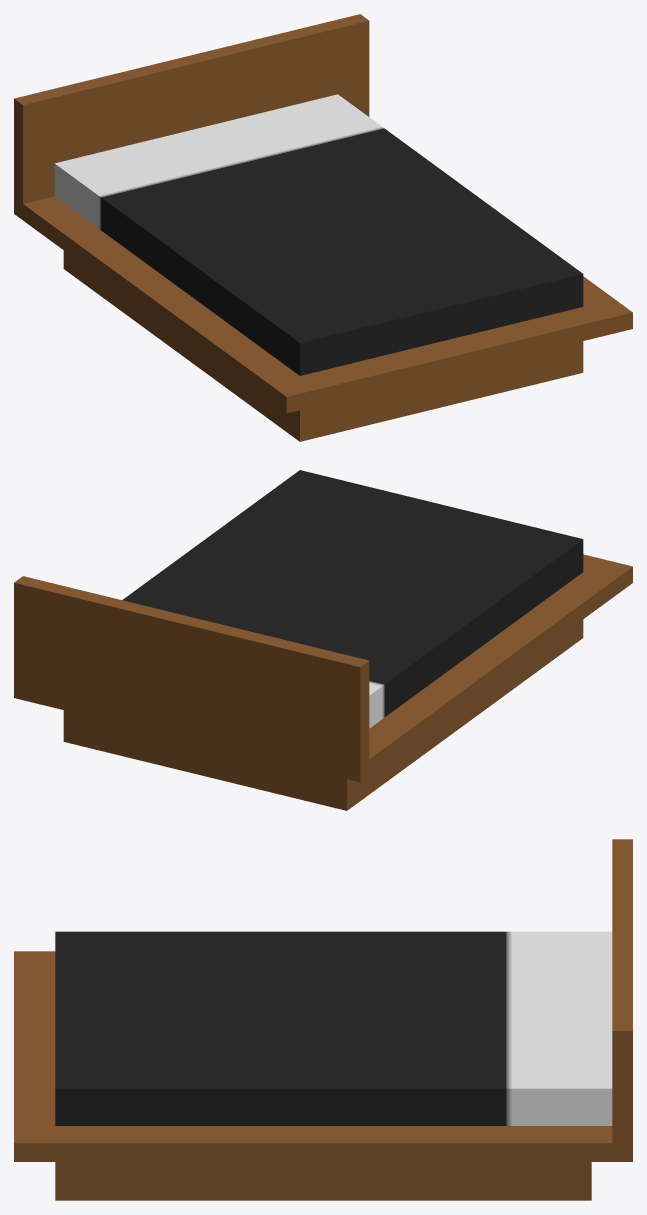
Rendered from Bed2.obj.
3 renders of one model, top to bottom at view 1: azimuth 30°, elevation 25°; view 2: azimuth 150°, elevation 25°; view 3: azimuth 270°, elevation 25°, orthographic. The views are drawn at different scales.
Visible parts, largest first — view 1: Bed2; view 2: Bed2; view 3: Bed2.
Boxes of the visible parts, box(x1,y1,x2,y2) form: Bed2: box(14, 14, 632, 441); Bed2: box(14, 470, 632, 810); Bed2: box(14, 839, 632, 1200).
Bounding box in the file's own units: 22 × 10 × 30.
